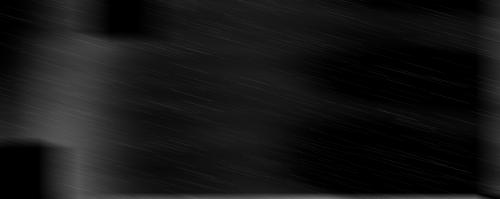Airbag: (0, 0, 500, 199), (491, 0, 500, 199), (490, 197, 500, 199)
